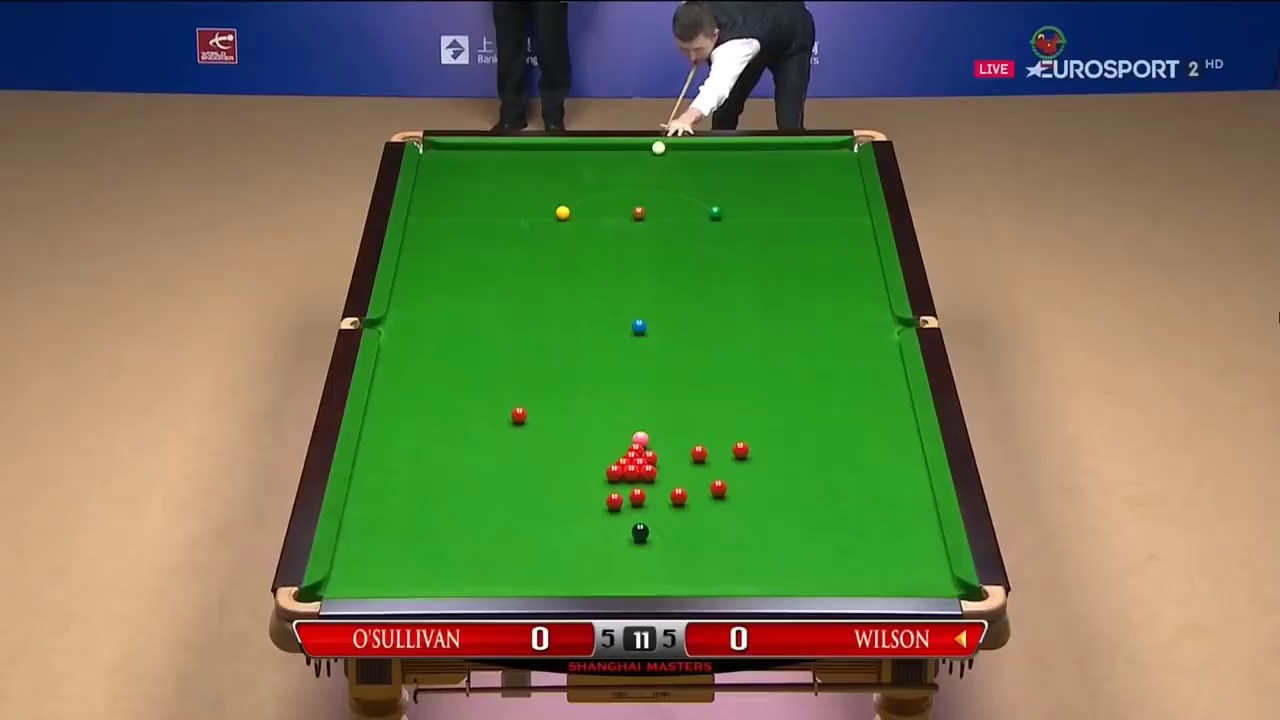ball: (630, 522, 651, 541), (509, 403, 529, 422), (629, 205, 648, 224), (691, 444, 709, 463), (669, 485, 687, 503), (604, 462, 621, 480), (649, 142, 668, 158), (606, 493, 622, 512), (629, 317, 647, 333), (710, 478, 726, 496), (554, 205, 570, 222), (732, 442, 750, 457), (628, 488, 644, 504), (707, 204, 721, 218)
